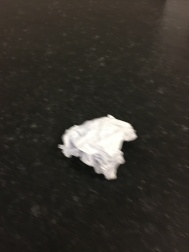paper_white: (48, 102, 146, 185)
